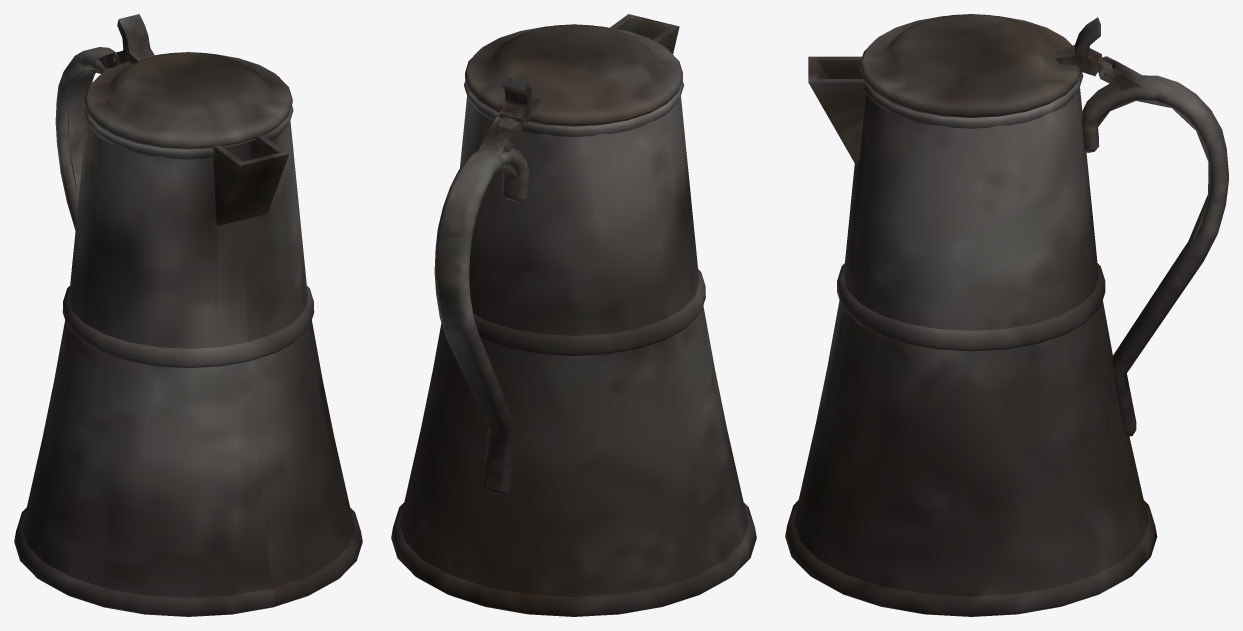
Rendered from Flagon.glb.
3 renders of one model, left to right at view 1: azimuth 30°, elevation 25°; view 2: azimuth 150°, elevation 25°; view 3: azimuth 270°, elevation 25°, orthographic. The views are drawn at different scales.
Parts seen in each view (by area): view 1: Flagon; view 2: Flagon; view 3: Flagon.
Boxes of the visible parts, left/top/right/bottom form: Flagon: left=14, top=14, right=362, bottom=616; Flagon: left=391, top=14, right=756, bottom=616; Flagon: left=785, top=14, right=1228, bottom=616.
Bounding box in the file's own units: 0.1449 × 0.2227 × 0.1728.
1 material, 1 textured.
